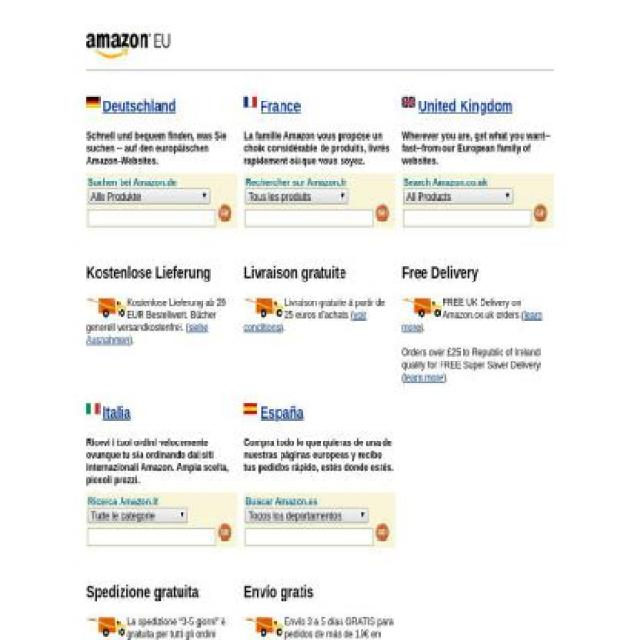button: (126, 295, 128, 297), (283, 295, 285, 297), (98, 403, 100, 405), (256, 403, 258, 405), (442, 295, 443, 297), (126, 615, 128, 616), (283, 615, 285, 616)
field: (244, 208, 374, 227), (87, 208, 216, 227), (403, 208, 532, 227), (244, 528, 374, 546), (87, 528, 216, 546), (245, 507, 369, 524), (88, 188, 210, 205), (403, 188, 514, 205), (245, 188, 349, 205), (87, 507, 188, 524), (218, 203, 232, 222), (376, 203, 390, 222), (534, 203, 548, 222), (218, 522, 232, 541), (376, 522, 390, 541)
